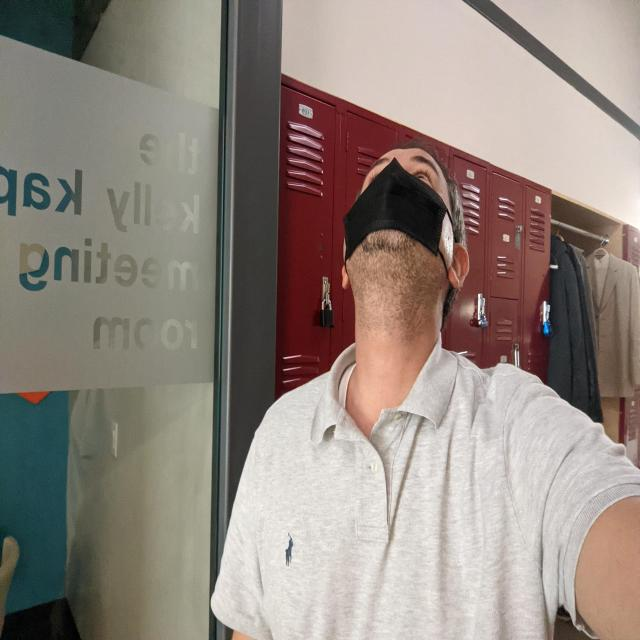face: (348, 146, 458, 278)
